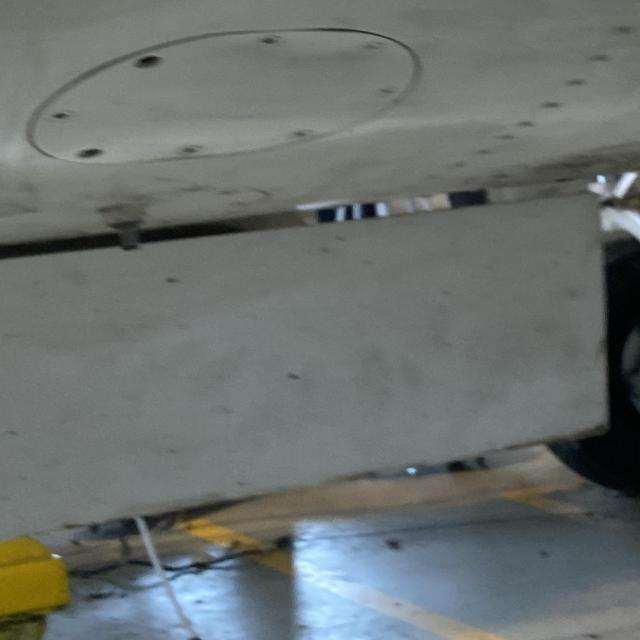Missing-head: (133, 53, 163, 71), (73, 146, 104, 162)
